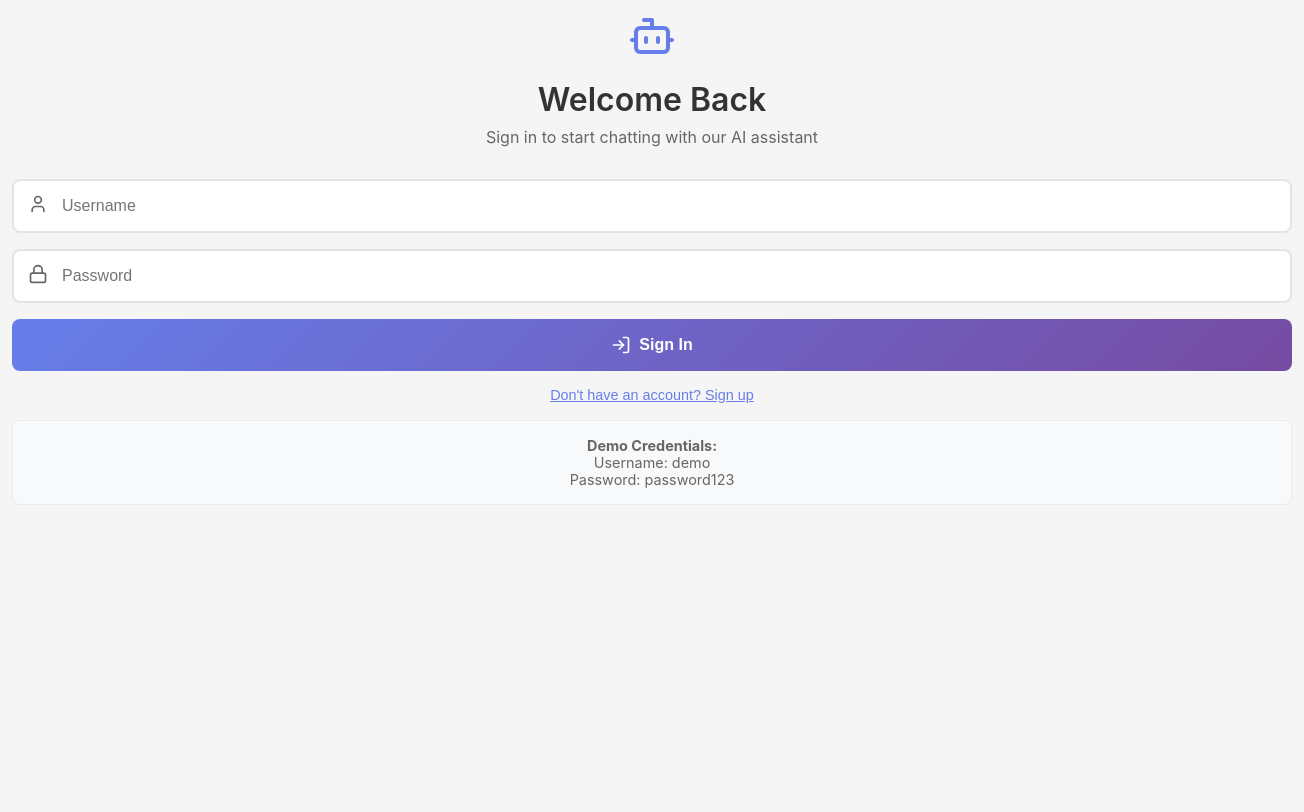
Test: LoginForm › displays error message on register failure
// Switch to register mode
Click the button "Don't have an account? Sign up": (652, 395) [550,387,754,403]
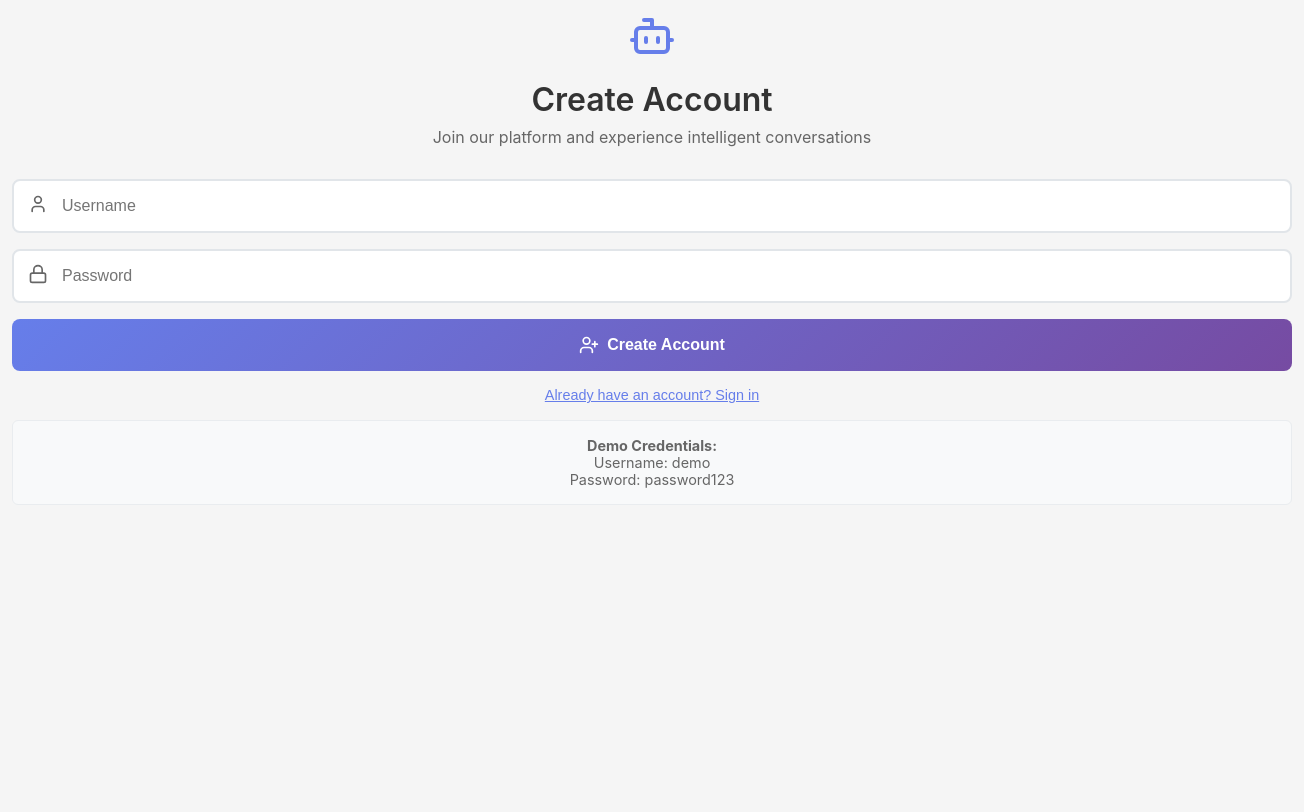
In the field with placeholder "Username": (652, 206) [12,179,1292,233], type "existinguser"
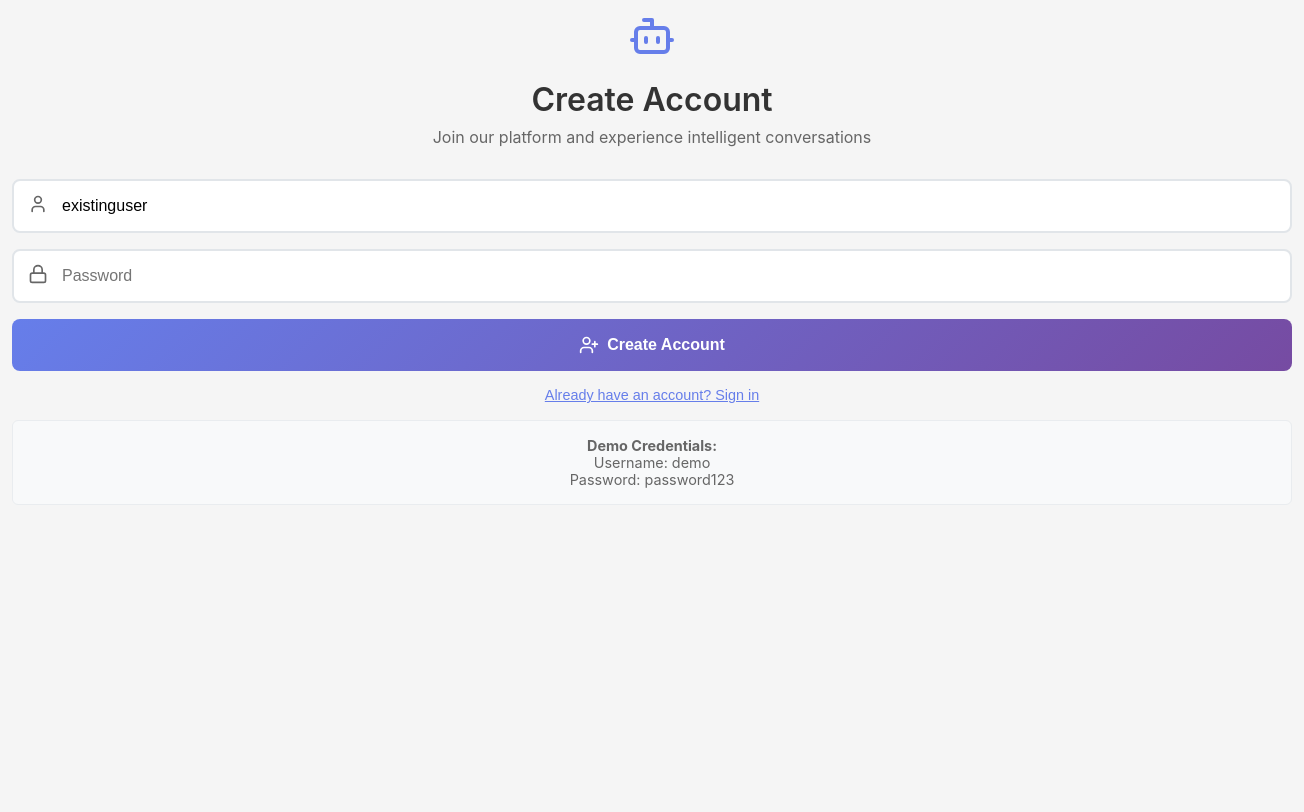
In the password field with placeholder "Password": (652, 276) [12,249,1292,303], type "password123"
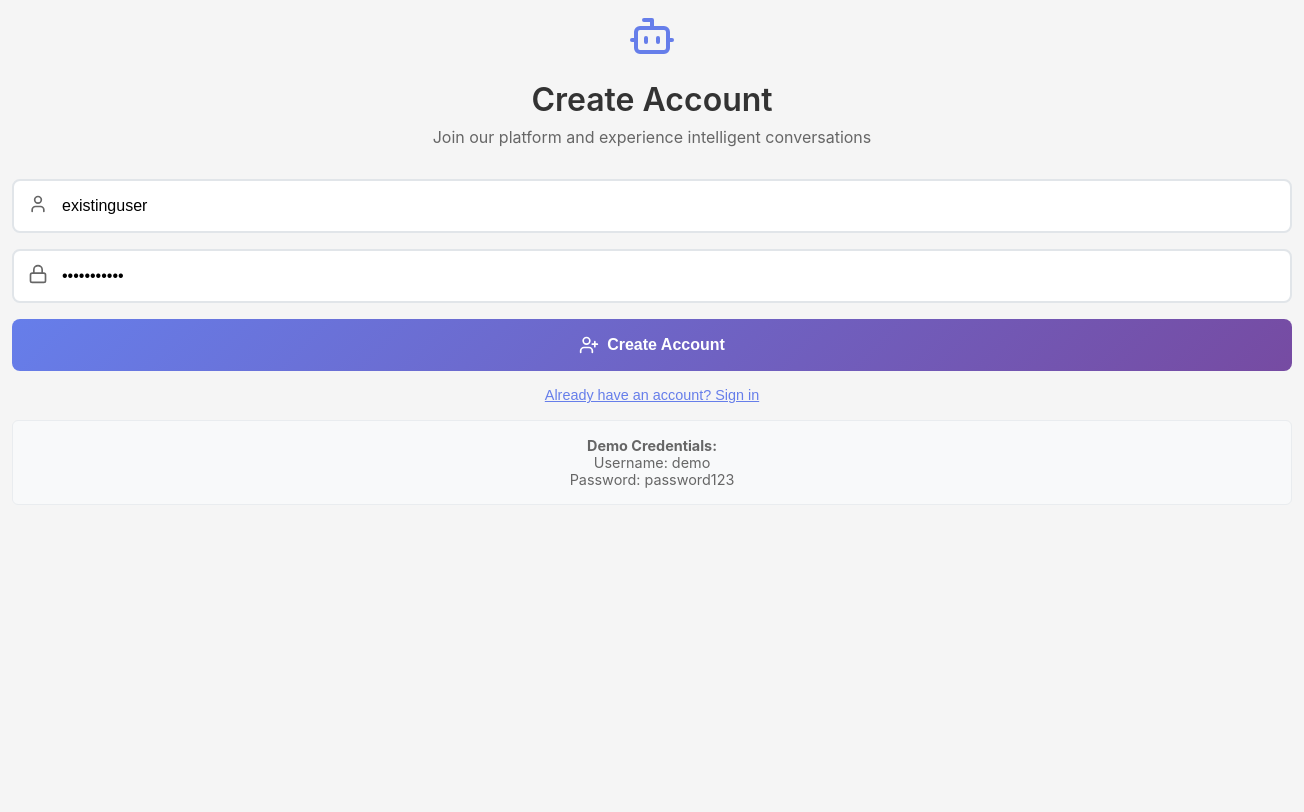
Click the button "Create Account": (652, 345) [12,319,1292,371]
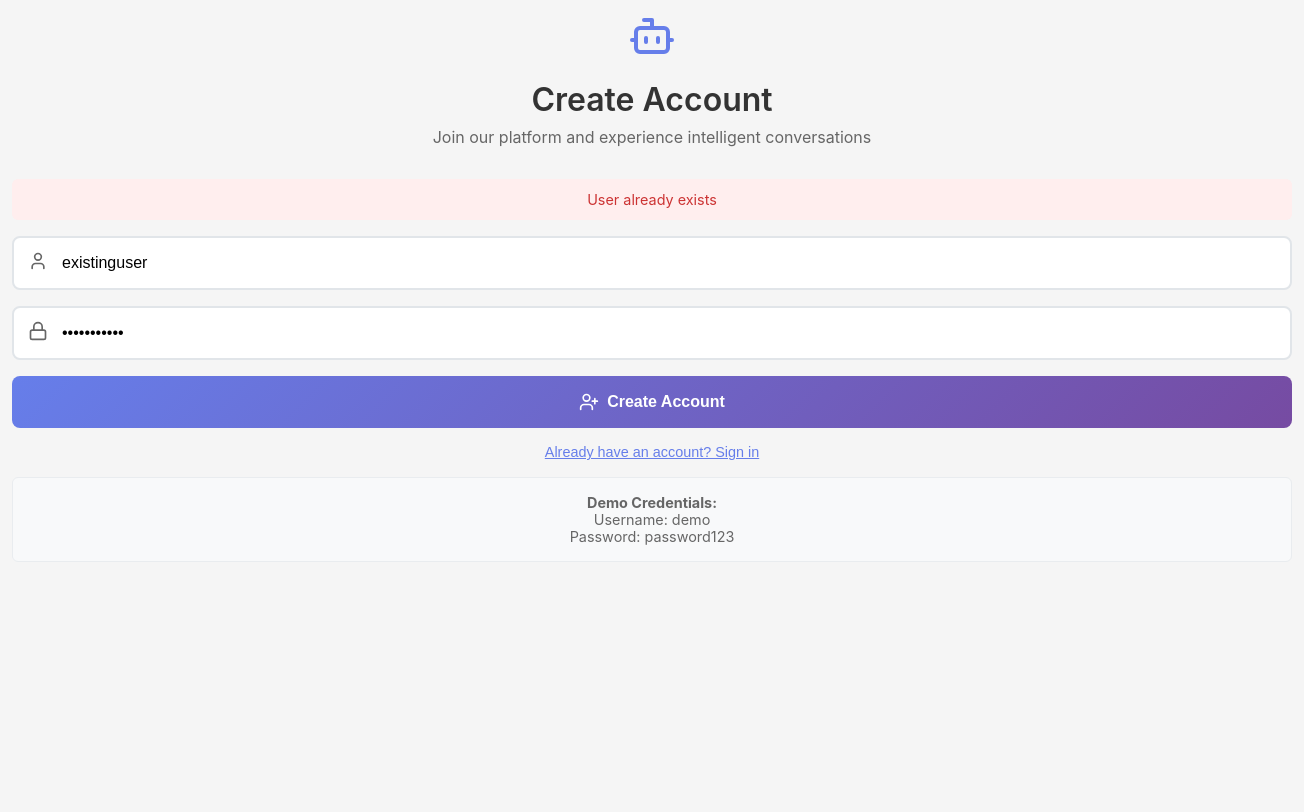
Result: the text "User already exists" is shown at [12,179,1292,220]
